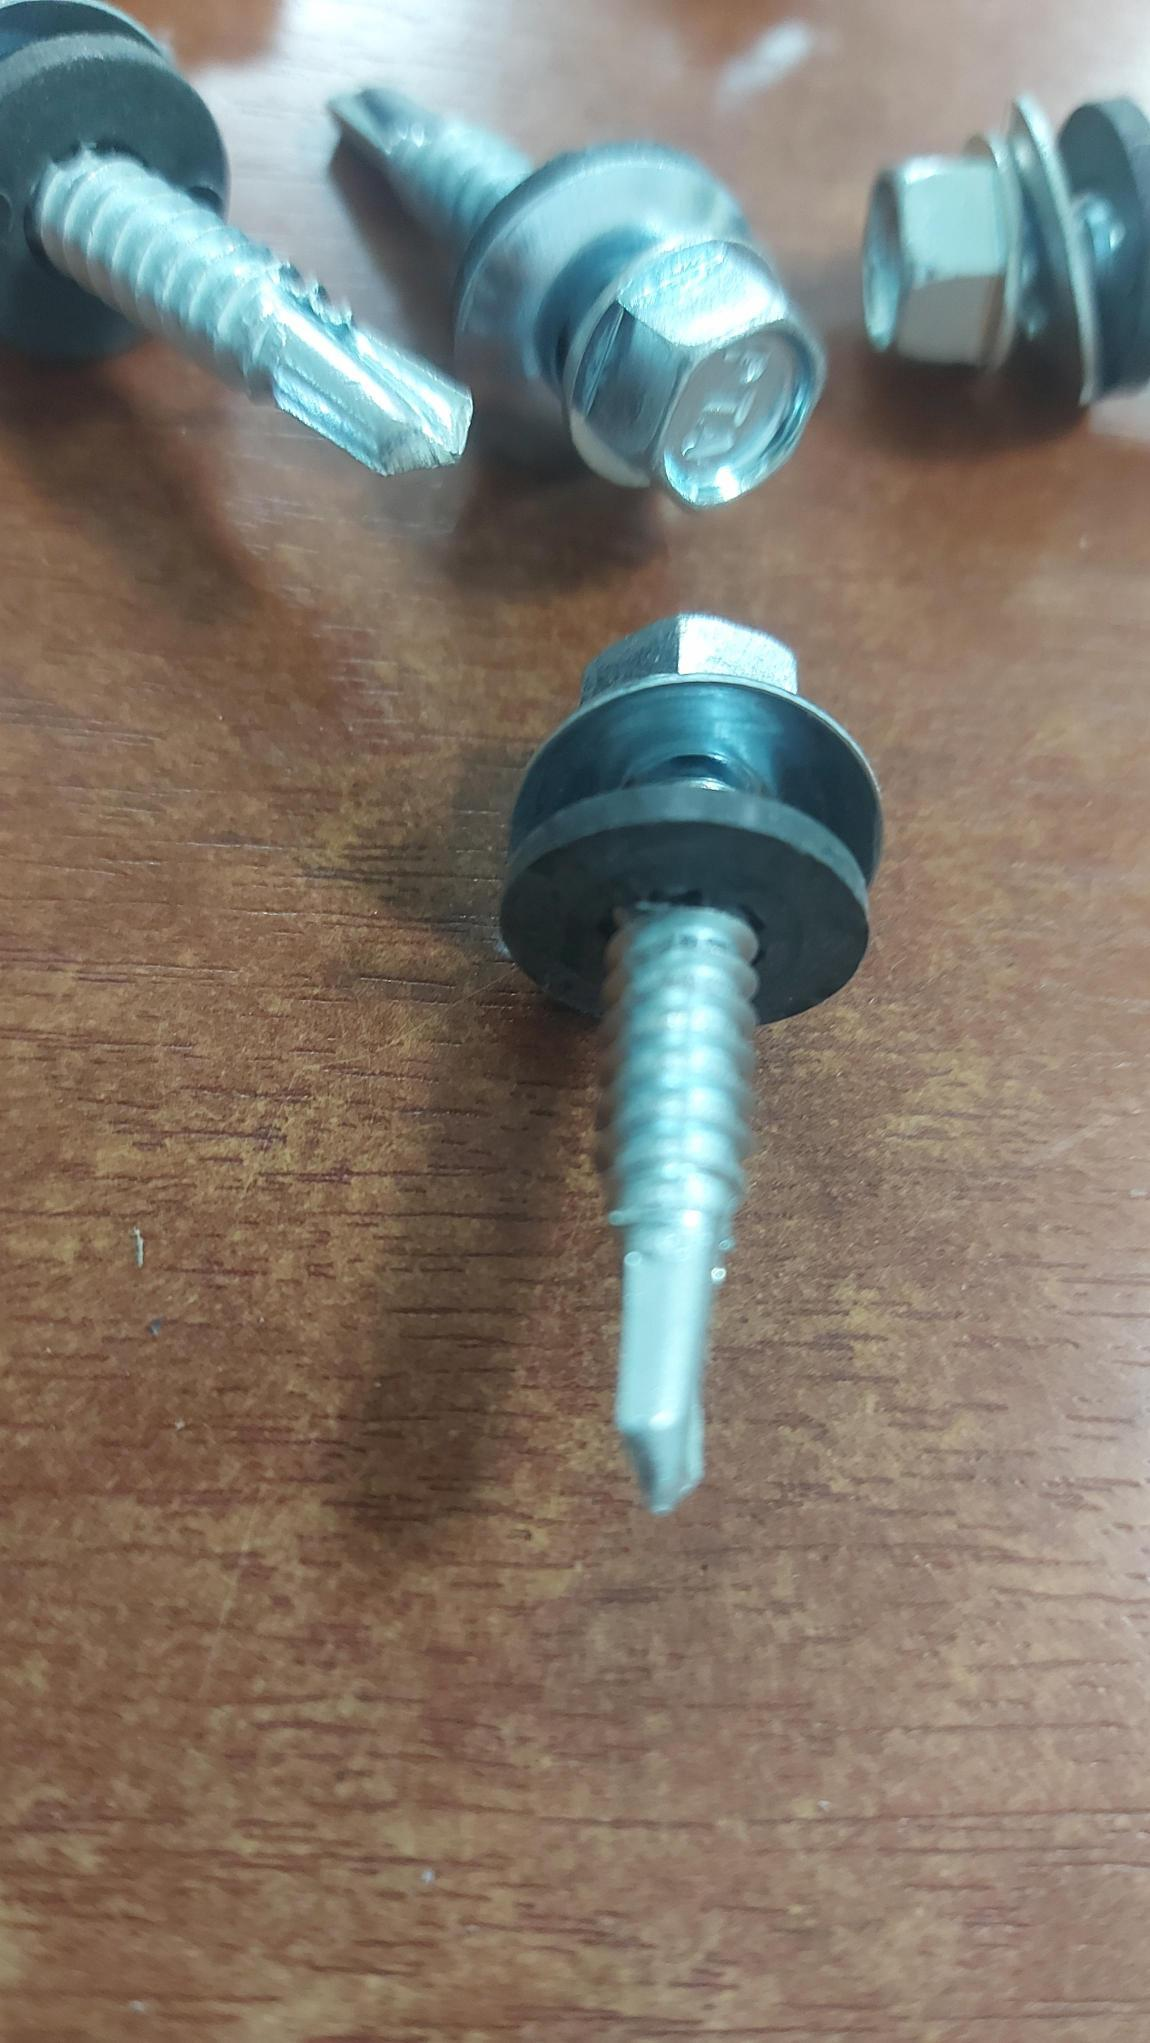Screw: (520, 615, 879, 1507), (332, 90, 823, 507), (864, 100, 1149, 404)
